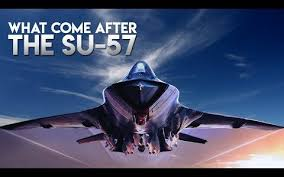fighter: (1, 57, 284, 158)
